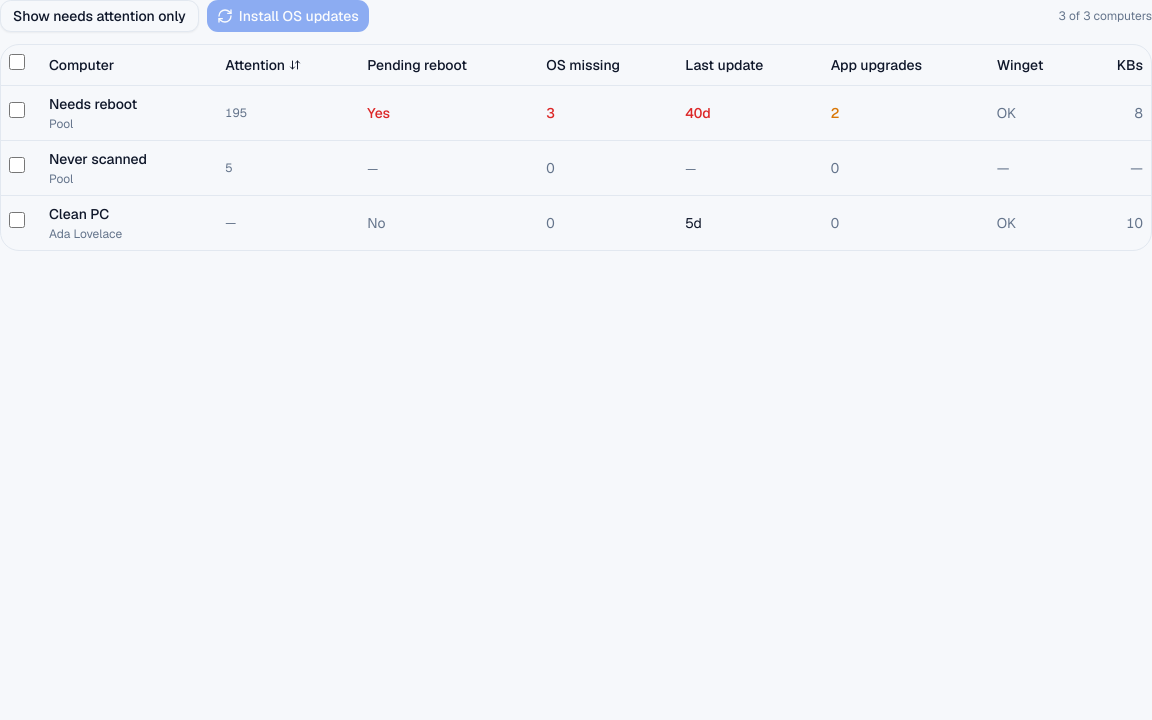
Scenario: PatchesFleet › queues install on confirm and clears selection
Click the checkbox named "Select Needs reboot": [17, 110] box [9,102,25,118]
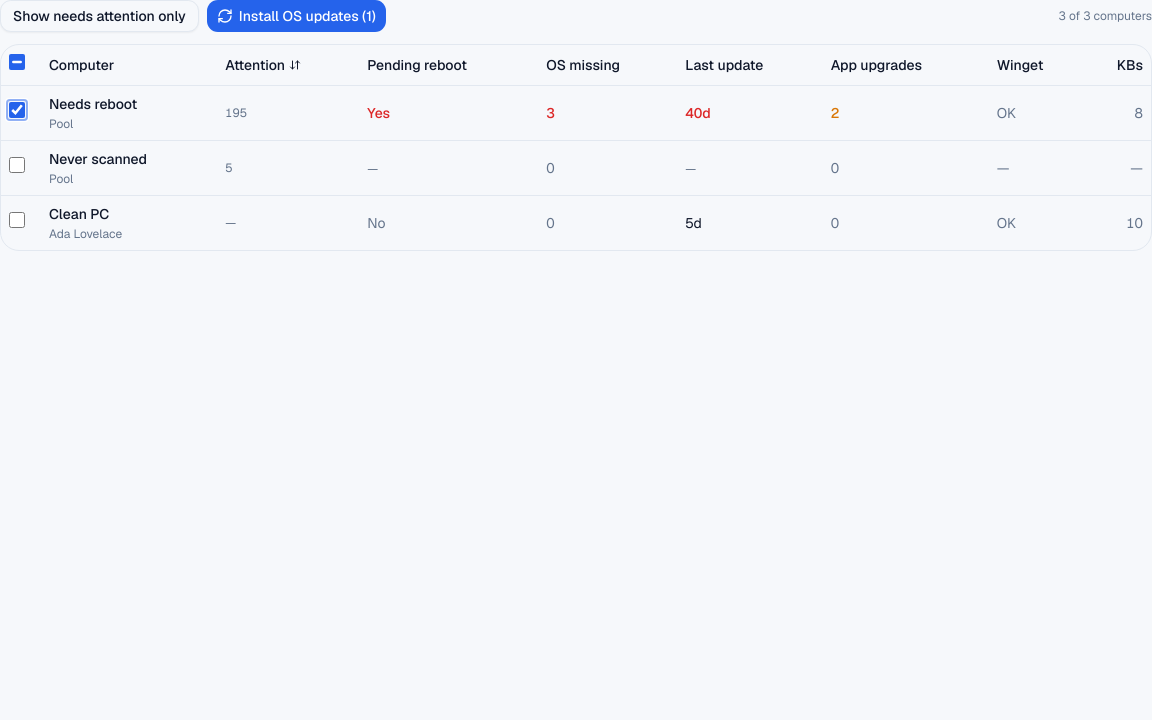
Click the button "Install OS updates (1)": [296, 16] box [207,0,386,32]
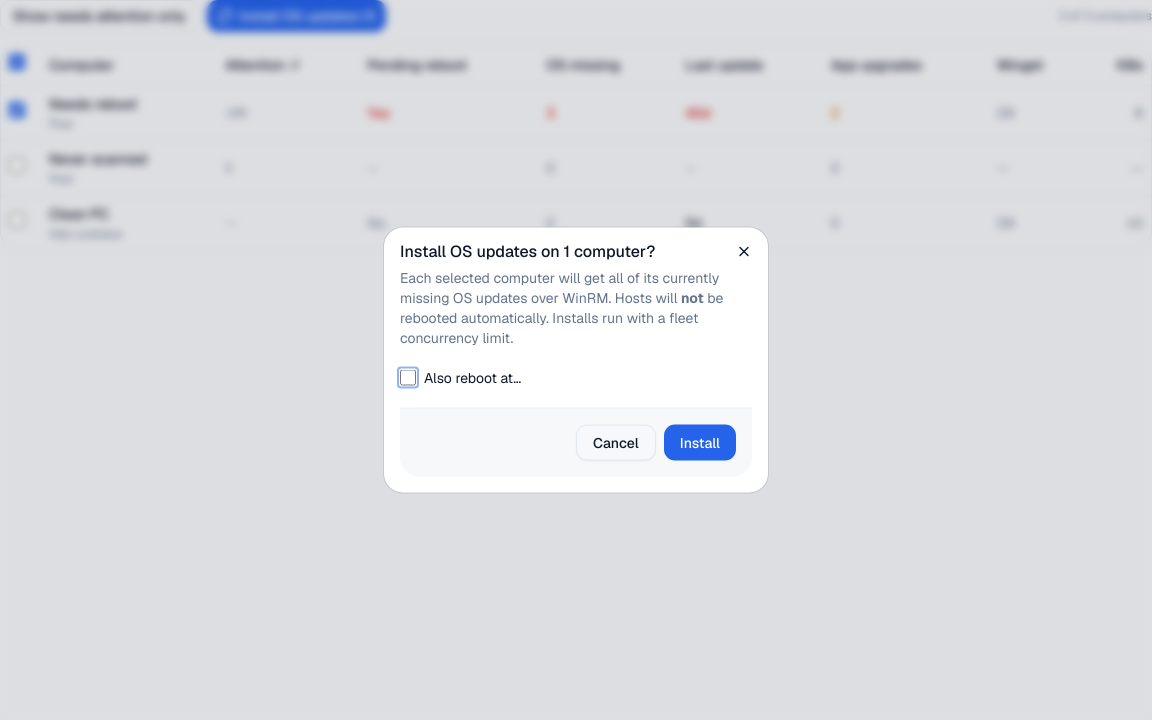
Click the button "Install": [700, 442] box [664,424,736,460]
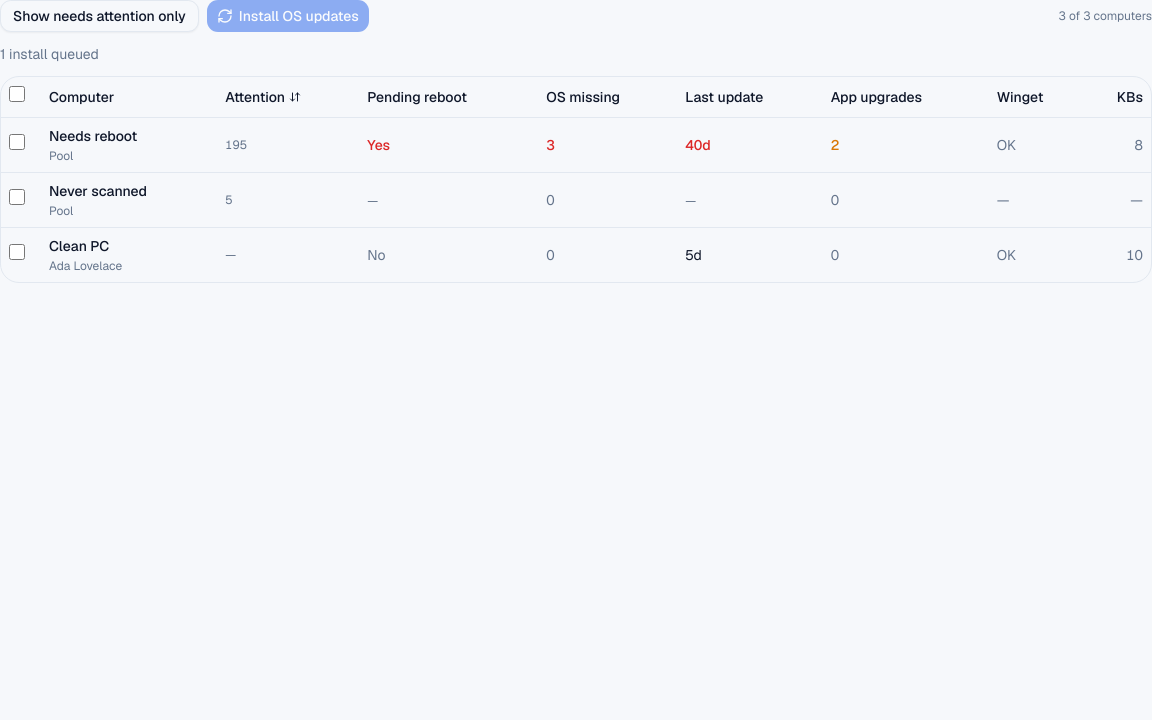
Expected: the message reads "1 install queued", [0,45,99,63]
Expected: the button "Install OS updates" is disabled, [207,0,369,32]
Expected: the dialog is gone
